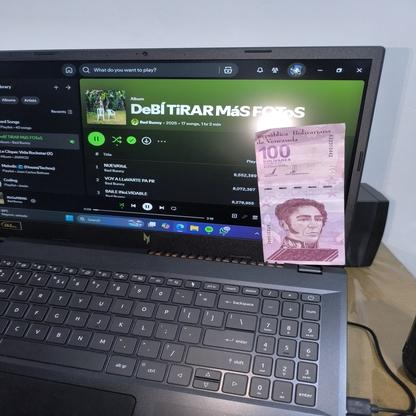vef_front: (254, 122, 346, 266)
